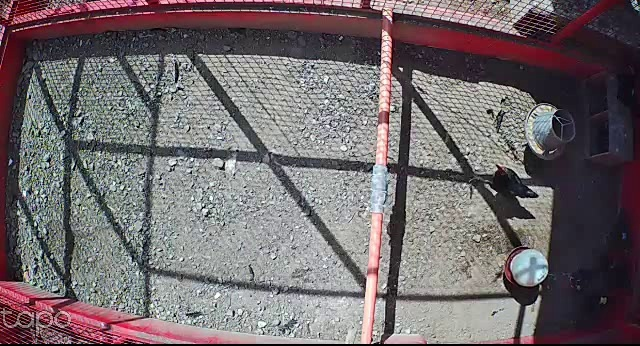Chicken: (466, 158, 545, 203), (604, 205, 639, 261), (583, 291, 623, 318)
Drinker: (501, 245, 552, 291)
Feeder: (524, 101, 577, 160)
Saddle_Color_Yellow: (599, 296, 608, 304)
